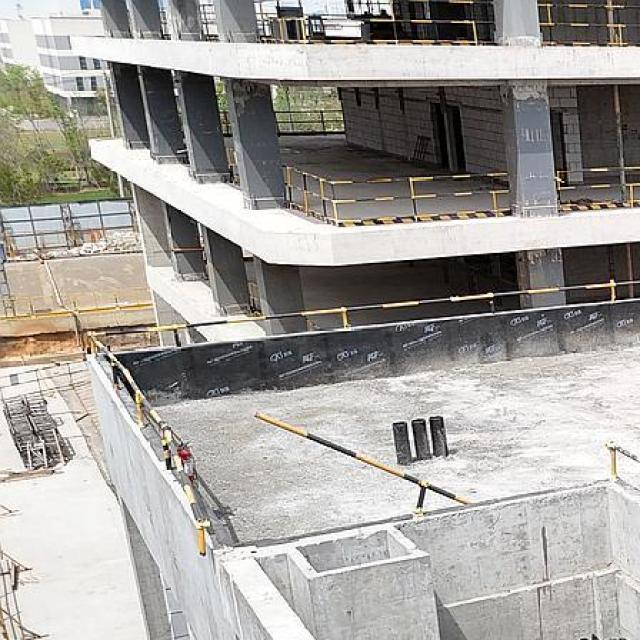edge_guardrail: (87, 275, 640, 556), (255, 411, 471, 516), (284, 163, 512, 228), (258, 0, 496, 46), (537, 4, 640, 47), (554, 166, 640, 208), (274, 110, 344, 131), (608, 440, 640, 480)
